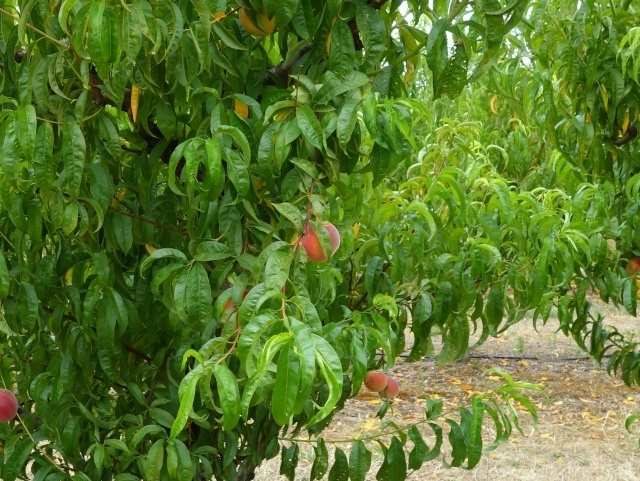peach: (296, 216, 344, 265), (1, 385, 23, 426), (362, 364, 389, 395), (380, 375, 404, 406)
